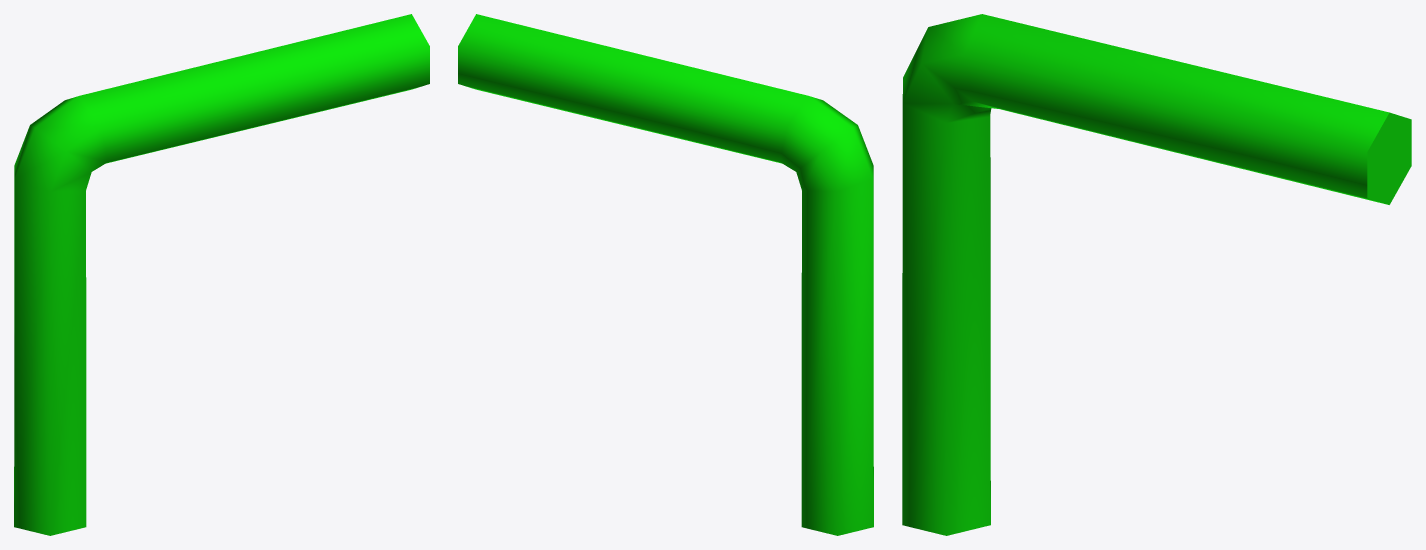
3 renders of one model, left to right at view 1: azimuth 30°, elevation 25°; view 2: azimuth 150°, elevation 25°; view 3: azimuth 330°, elevation 25°, orthographic. The views are drawn at different scales.
Parts seen in each view (by area): view 1: Plane.595; view 2: Plane.595; view 3: Plane.595.
Boxes of the visible parts, x1,y1,x2,y2 form: Plane.595: (14, 14, 429, 535); Plane.595: (458, 14, 873, 535); Plane.595: (902, 14, 1411, 535).
Size of the model in its own units: 0.11 by 0.11 by 0.0173.
